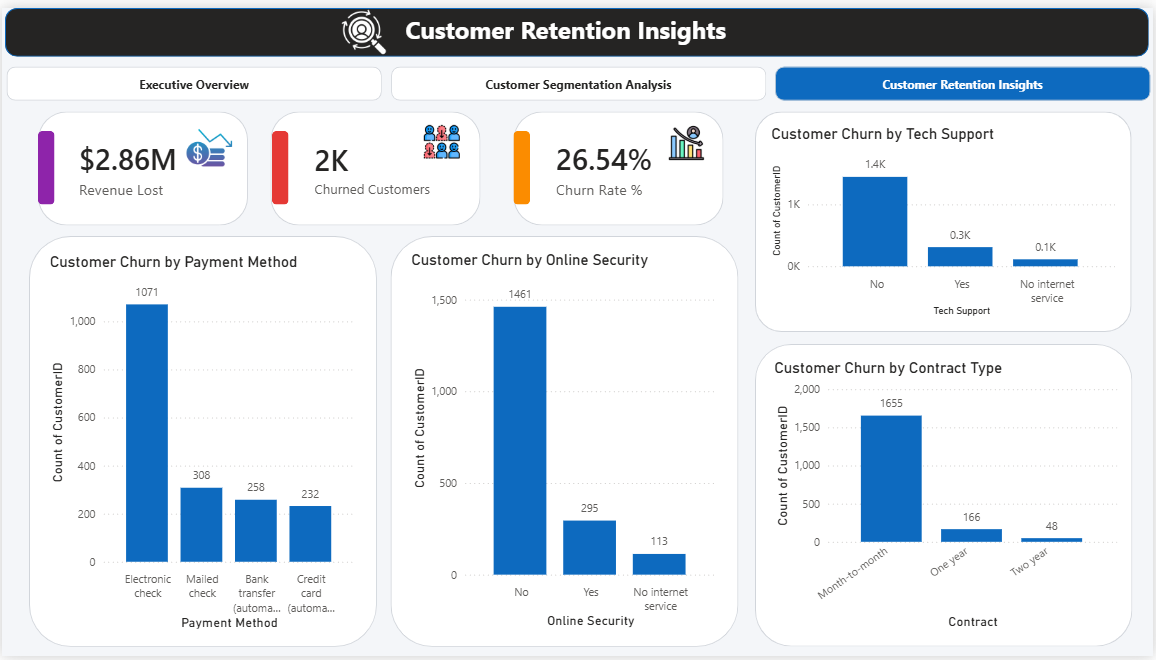

What the dashboard file says about the page in this screenshot:
{"tool":"powerbi","page":{"name":"Customer Retention Insights","canvas":[1280,720],"ordinal":2},"visuals":[{"type":"shape","box":[836.7,115,418.3,245],"z":0,"group":"g1"},{"type":"shape","box":[836.5,372.7,419.2,336.2],"z":1000,"group":"g4"},{"type":"shape","box":[431.1,252.9,386.5,456.5],"z":2000,"group":"g3"},{"type":"shape","box":[30.2,252.9,386.5,456.5],"z":3000,"group":"g2"},{"type":"shape","box":[298.3,115,233.3,126.7],"z":4000,"group":"g6"},{"type":"cardVisual","fields":{"Data":["Telco_Churn.Churned Customers"]},"box":[318.3,126.7,196.7,103.3],"z":5000,"group":"g6"},{"type":"clusteredColumnChart","title":"Customer Churn by Payment Method","fields":{"Category":["Telco_Churn.Payment Method"],"Y":["CountNonNull(Telco_Churn.CustomerID)"]},"box":[48.6,271.4,348.4,423.3],"z":6000,"group":"g2"},{"type":"clusteredColumnChart","title":"Customer Churn by Online Security","fields":{"Category":["Telco_Churn.Online Security"],"Y":["CountNonNull(Telco_Churn.CustomerID)"]},"box":[449.7,269.4,348.4,423.3],"z":7000,"group":"g3"},{"type":"clusteredColumnChart","title":"Customer Churn by Tech Support","fields":{"Category":["Telco_Churn.Tech Support"],"Y":["CountNonNull(Telco_Churn.CustomerID)"]},"box":[850,130,391.7,216.7],"z":8000,"group":"g1"},{"type":"clusteredColumnChart","title":"Customer Churn by Contract Type","fields":{"Category":["Telco_Churn.Contract"],"Y":["CountNonNull(Telco_Churn.CustomerID)"]},"box":[852.7,388.9,390.9,303.8],"z":9000,"group":"g4"},{"type":"shape","box":[3.2,0,1270.9,54.1],"z":10000},{"type":"textbox","box":[392.9,0,466,47.7],"z":11000},{"type":"shape","box":[40,115,233.3,126.7],"z":12000,"group":"g5"},{"type":"cardVisual","fields":{"Data":["Telco_Churn.Revenue Lost"]},"box":[56.7,126.7,198.3,103.3],"z":13000,"group":"g5"},{"type":"shape","box":[568.3,115,233.3,126.7],"z":14000,"group":"g7"},{"type":"cardVisual","fields":{"Data":["Telco_Churn.Churn Rate %"]},"box":[586.6,126.7,198.3,103.3],"z":15000,"group":"g7"},{"type":"shape","box":[40,136.7,18.3,81.7],"z":16000,"group":"g5"},{"type":"shape","box":[300,136.7,18.3,81.7],"z":17000,"group":"g6"},{"type":"shape","box":[568.3,136.7,18.3,81.7],"z":18000,"group":"g7"},{"type":"pageNavigator","box":[5,65,1271.7,38.3],"z":19000},{"type":"image","box":[463.8,127.6,50.6,40.5],"z":19001,"group":"g6"},{"type":"image","box":[204.6,129.6,50.6,50.6],"z":19002,"group":"g5"},{"type":"image","box":[735.2,129.6,50.6,40],"z":19003,"group":"g7"},{"type":"image","box":[371.4,1.4,60,50],"z":19004},{"type":"group","id":"g1","title":"Group 4","box":[836.7,115,418.3,245],"z":19008},{"type":"group","id":"g2","title":"Group 5","box":[30.2,252.9,386.5,456.5],"z":19009},{"type":"group","id":"g3","title":"Group 6","box":[431.1,252.9,386.5,456.5],"z":19010},{"type":"group","id":"g4","title":"Group 7","box":[836.5,372.7,419.2,336.2],"z":19011},{"type":"group","id":"g5","title":"Group 1","box":[40,115,233.3,126.7],"z":19012},{"type":"group","id":"g6","title":"Group 2","box":[298.3,115,233.3,126.7],"z":19013},{"type":"group","id":"g7","title":"Group 3","box":[568.3,115,233.3,126.7],"z":19014}]}

Visuals, with their boxes in screenshot pixels (x1, y1, x2, y2), scaled from the page's 1280x720 canvas onto the 1156x660 screenshot:
shape: 756:105:1133:330
shape: 755:342:1134:650
shape: 389:232:738:650
shape: 27:232:376:650
shape: 269:105:480:222
cardVisual - Telco_Churn.Churned Customers: 287:116:465:211
"Customer Churn by Payment Method" clusteredColumnChart: 44:249:359:637
"Customer Churn by Online Security" clusteredColumnChart: 406:247:721:635
"Customer Churn by Tech Support" clusteredColumnChart: 768:119:1121:318
"Customer Churn by Contract Type" clusteredColumnChart: 770:356:1123:635
shape: 3:0:1151:50
textbox: 355:0:776:44
shape: 36:105:247:222
cardVisual - Telco_Churn.Revenue Lost: 51:116:230:211
shape: 513:105:724:222
cardVisual - Telco_Churn.Churn Rate %: 530:116:709:211
shape: 36:125:53:200
shape: 271:125:287:200
shape: 513:125:530:200
pageNavigator: 5:60:1153:95
image: 419:117:465:154
image: 185:119:230:165
image: 664:119:710:155
image: 335:1:390:47
"Group 4" group: 756:105:1133:330
"Group 5" group: 27:232:376:650
"Group 6" group: 389:232:738:650
"Group 7" group: 755:342:1134:650
"Group 1" group: 36:105:247:222
"Group 2" group: 269:105:480:222
"Group 3" group: 513:105:724:222
